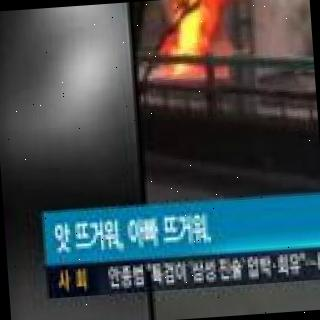fire: (152, 0, 230, 88)
